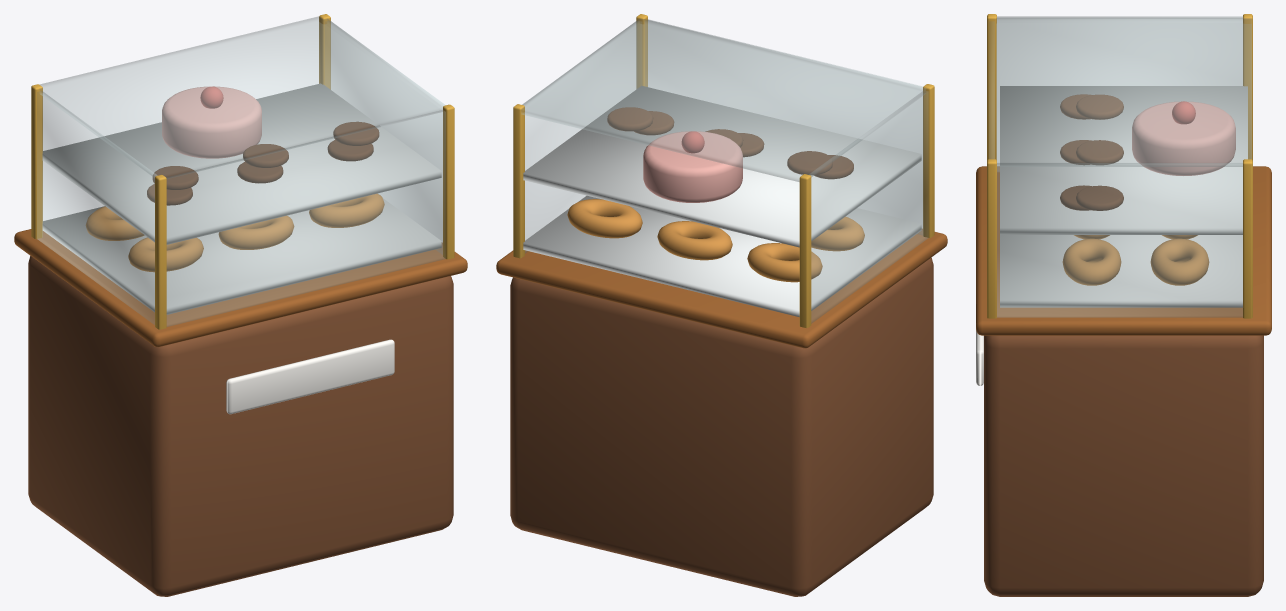
File: vitrine.glb
3 views of the same model, side by side, from view 1: azimuth 30°, elevation 25°; view 2: azimuth 150°, elevation 25°; view 3: azimuth 270°, elevation 25° (orthographic). The views are drawn at different scales.
Parts seen in each view (by area): view 1: meuble, vitre_avant, vitre_dessus, etagere1, vitre_g, etagere0, plateau, vitre_d, etiquette, gateau, montant1, montant0 (+11 smaller); view 2: meuble, vitre_dessus, etagere1, vitre_avant, vitre_g, etagere0, plateau, vitre_d, gateau, croissant_b2, croissant_b1, montant2 (+7 smaller); view 3: meuble, vitre_dessus, vitre_d, etagere1, vitre_g, etagere0, plateau, gateau, croissant2, croissant_b2, montant1, montant3 (+11 smaller).
Part boxes in pixels (box(x1,y1,x2,y2)): meuble: box(28, 256, 453, 596); vitre_avant: box(166, 110, 445, 326); vitre_dessus: box(40, 16, 445, 178); etagere1: box(42, 83, 441, 244); vitre_g: box(37, 91, 156, 324); etagere0: box(42, 198, 441, 314); plateau: box(14, 229, 467, 347); vitre_d: box(325, 21, 444, 254); etiquette: box(226, 339, 394, 414); gateau: box(162, 86, 261, 158); montant1: box(443, 104, 454, 259); montant0: box(155, 174, 166, 329); meuble: box(510, 257, 933, 596); vitre_dessus: box(521, 19, 925, 181); etagere1: box(523, 86, 921, 247); vitre_avant: box(647, 19, 922, 234); vitre_g: box(809, 91, 928, 323); etagere0: box(523, 195, 921, 317); plateau: box(496, 229, 947, 348); vitre_d: box(523, 21, 641, 253); gateau: box(643, 131, 742, 202); croissant_b2: box(567, 199, 642, 238); croissant_b1: box(657, 221, 732, 260); montant2: box(799, 174, 811, 328); meuble: box(984, 335, 1263, 596); vitre_dessus: box(996, 16, 1251, 166); vitre_d: box(997, 163, 1242, 317); etagere1: box(1000, 86, 1247, 234); vitre_g: box(997, 18, 1242, 171); etagere0: box(1000, 235, 1242, 307); plateau: box(976, 166, 1271, 335); gateau: box(1132, 101, 1235, 175); croissant2: box(1062, 238, 1121, 285); croissant_b2: box(1150, 238, 1209, 285); montant1: box(987, 159, 996, 318); montant3: box(1243, 159, 1252, 318).
Size of the model in its own units: 0.94 by 1.21 by 0.74.
